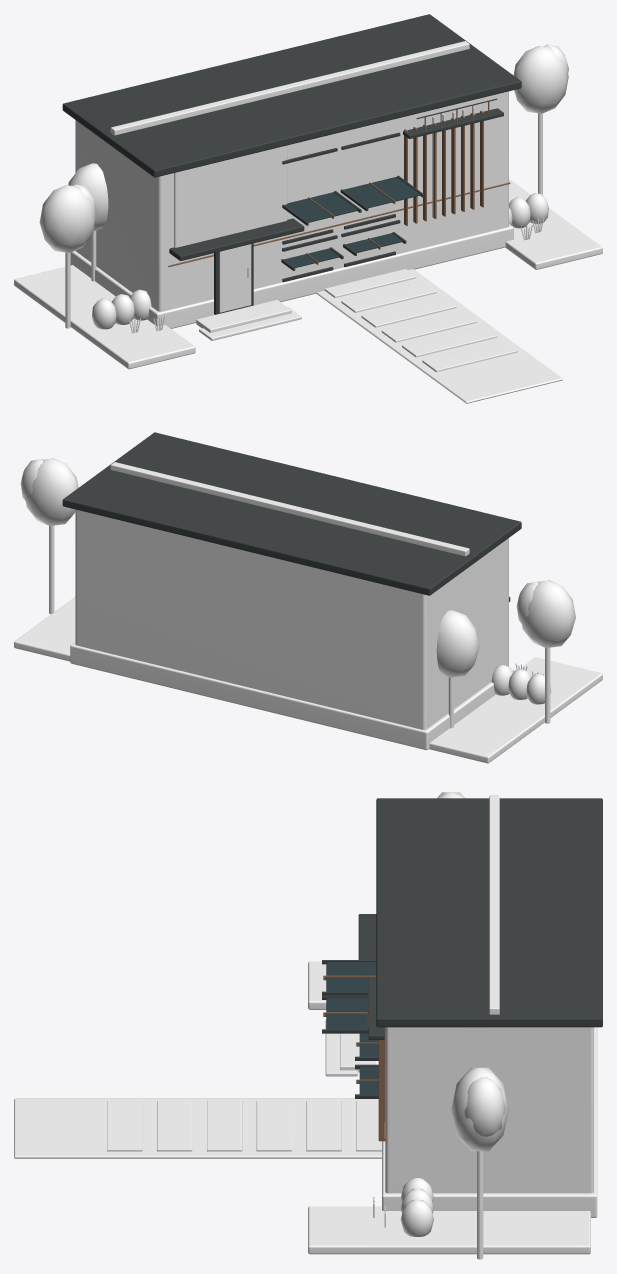
The model's file is profacciata_facade.glb.
The picture shows the model from 3 angles, top to bottom: view 1: azimuth 30°, elevation 25°; view 2: azimuth 150°, elevation 25°; view 3: azimuth 270°, elevation 25°; orthographic projection. The views are drawn at different scales.
Parts seen in each view (by area): view 1: ARCH_Main_Volume, ARCH_Flat_Roof_Slab, ARCH_Entry_Volume, ENV_Approach_Path, ARCH_Plinth, LAND_Bed_Left, FACADE_Feature_Panel, LAND_Bed_Right, ARCH_Parapet, LAND_Tree_Crown_00A, LAND_Tree_Crown_01A, DOOR_Wood_Slab (+21 smaller); view 2: ARCH_Main_Volume, ARCH_Flat_Roof_Slab, ARCH_Plinth, LAND_Bed_Left, ARCH_Parapet, LAND_Tree_Crown_00A, LAND_Tree_Crown_01A, LAND_Tree_Crown_02A, LAND_Bed_Right, LAND_Shrub_01, LAND_Tree_Trunk_01, LAND_Shrub_00 (+4 smaller); view 3: ARCH_Flat_Roof_Slab, ARCH_Main_Volume, ENV_Approach_Path, LAND_Bed_Right, ARCH_Plinth, ARCH_Parapet, LAND_Tree_Crown_01A, ENV_Step_01, ENV_Step_02, ENV_Step_03, ENV_Step_04, ENV_Step_05 (+12 smaller).
Boxes of the visible parts, x1,y1,x2,y2 form: ARCH_Main_Volume: (75,91,508,311); ARCH_Flat_Roof_Slab: (62,14,521,177); ARCH_Entry_Volume: (174,145,287,247); ENV_Approach_Path: (316,269,562,403); ARCH_Plinth: (70,224,513,328); LAND_Bed_Left: (14,265,195,369); FACADE_Feature_Panel: (420,99,490,221); LAND_Bed_Right: (505,179,602,269); ARCH_Parapet: (110,41,469,135); LAND_Tree_Crown_00A: (39,185,96,252); LAND_Tree_Crown_01A: (513,46,568,113); DOOR_Wood_Slab: (219,244,251,312); ARCH_Main_Volume: (75,509,508,729); ARCH_Flat_Roof_Slab: (62,432,521,595); ARCH_Plinth: (70,642,513,750); LAND_Bed_Left: (429,657,602,763); ARCH_Parapet: (110,462,469,556); LAND_Tree_Crown_00A: (522,580,575,647); LAND_Tree_Crown_01A: (26,458,78,525); LAND_Tree_Crown_02A: (436,610,479,677); LAND_Bed_Right: (14,597,75,661); LAND_Shrub_01: (508,669,531,699); LAND_Tree_Trunk_01: (49,525,54,613); LAND_Shrub_00: (526,673,550,704); ARCH_Flat_Roof_Slab: (376,798,602,1027); ARCH_Main_Volume: (385,1027,593,1193); ENV_Approach_Path: (14,1098,381,1158); LAND_Bed_Right: (308,1206,590,1254); ARCH_Plinth: (382,1027,597,1217); ARCH_Parapet: (489,795,499,1014); LAND_Tree_Crown_01A: (451,1067,508,1151); ENV_Step_01: (306,1100,341,1151); ENV_Step_02: (256,1100,291,1151); ENV_Step_03: (207,1100,242,1151); ENV_Step_04: (157,1100,192,1151); ENV_Step_05: (107,1100,142,1151).
Size of what is drawn, in the model's own units: 23.69 by 7.23 by 18.32.
